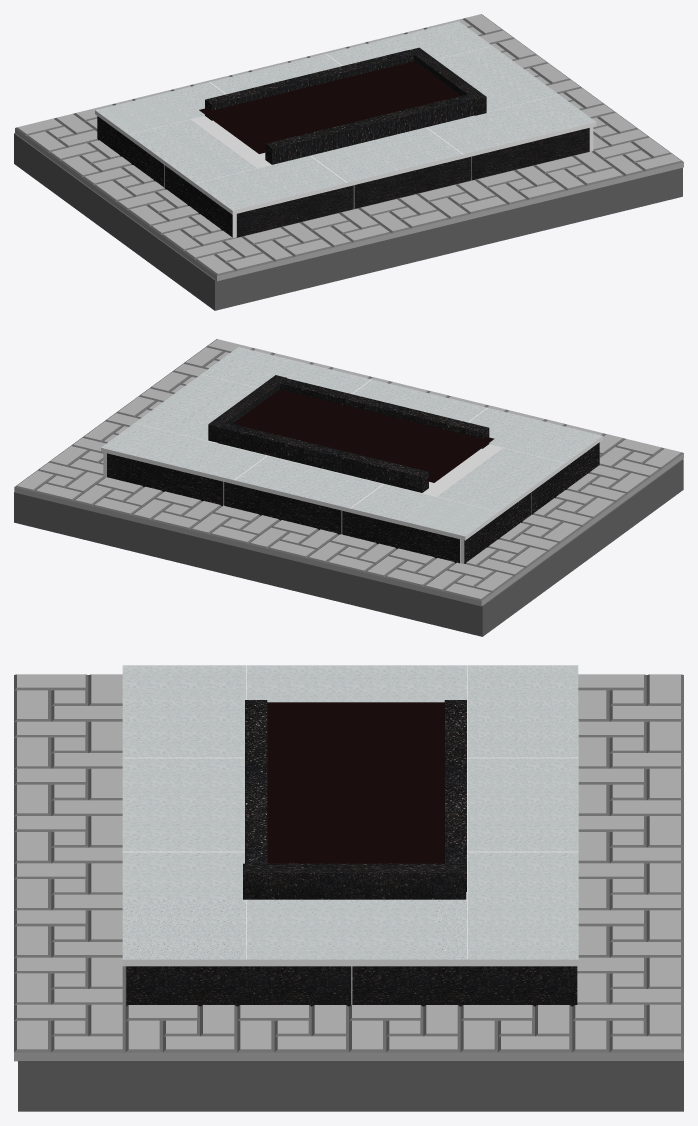
Rendered from 120-180-15 серая черн [u_1_u].glb.
3 renders of one model, top to bottom at view 1: azimuth 30°, elevation 25°; view 2: azimuth 150°, elevation 25°; view 3: azimuth 270°, elevation 25°, orthographic. The views are drawn at different scales.
Visible parts, largest first — view 1: plitka, Куб.219, Cube.146, Plane.001, Куб.218, Куб.224, Куб.215, Куб.222, Куб.223, Cube.142; view 2: plitka, Куб.219, Cube.146, Plane.001, Куб.220, Куб.222, Куб.215, Куб.224, Куб.223, Cube.142; view 3: plitka, Куб.219, Cube.146, Plane.001, Куб.216, Куб.223, Куб.222, Куб.224.
Boxes of the visible parts, <box> form: plitka: <box>15,14,683,281</box>; Куб.219: <box>95,21,596,214</box>; Cube.146: <box>14,133,682,310</box>; Plane.001: <box>199,61,461,153</box>; Куб.218: <box>236,128,588,237</box>; Куб.224: <box>265,94,474,164</box>; Куб.215: <box>97,116,236,237</box>; Куб.222: <box>205,50,414,120</box>; Куб.223: <box>408,47,486,115</box>; Cube.142: <box>191,116,271,168</box>; plitka: <box>14,339,683,606</box>; Куб.219: <box>101,347,602,540</box>; Cube.146: <box>14,459,683,636</box>; Plane.001: <box>233,389,494,482</box>; Куб.220: <box>107,453,460,563</box>; Куб.222: <box>217,422,428,492</box>; Куб.215: <box>460,442,599,563</box>; Куб.224: <box>280,378,489,448</box>; Куб.223: <box>208,375,286,442</box>; Cube.142: <box>266,444,502,496</box>; plitka: <box>14,674,683,1061</box>; Куб.219: <box>122,665,578,966</box>; Cube.146: <box>18,1061,683,1111</box>; Plane.001: <box>267,702,444,863</box>; Куб.216: <box>126,966,577,1006</box>; Куб.223: <box>243,863,466,899</box>; Куб.222: <box>444,700,466,891</box>; Куб.224: <box>245,700,267,863</box>.
Bounding box in the file's own units: 2.41 × 0.4003 × 1.8.
Materials: 7 (3 with a texture image).
